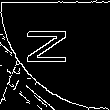N_E: (30, 35, 80, 75)
